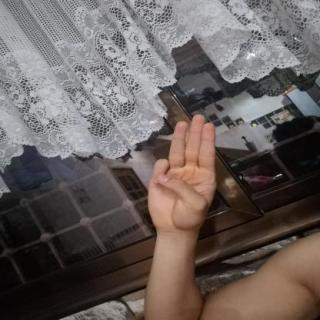THA: (141, 109, 224, 236)
